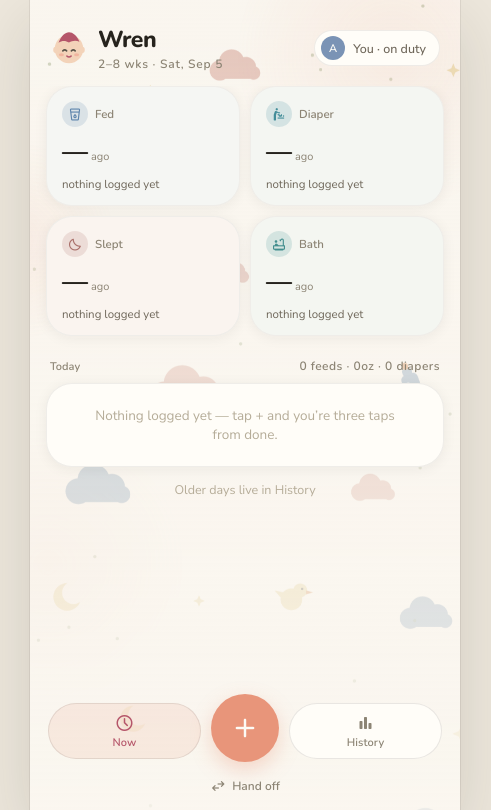
Scenario: multi-timer rows › starting from the sheet posts a client-generated id and shows the row
Click the button "add". click: (245, 728)
box: [211,694,279,762]
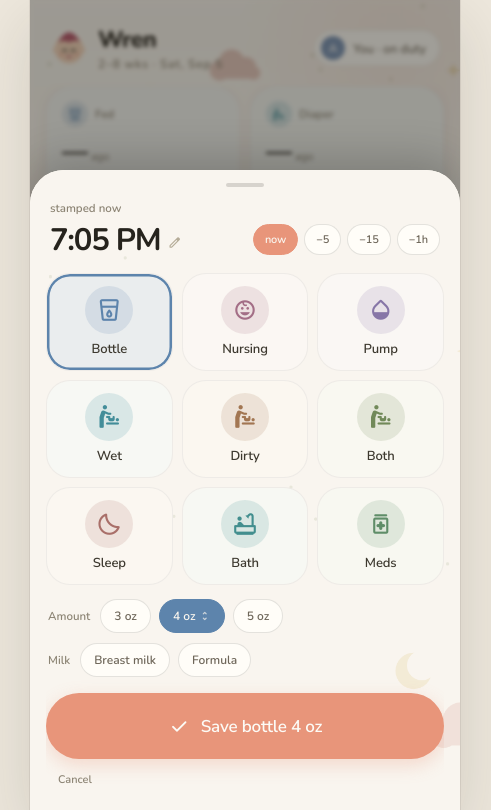
// the sheet is pointer-events:none until its enter animation lands (double rAF)
Click the text "Nursing". click: (245, 349)
box: [222,340,268,358]
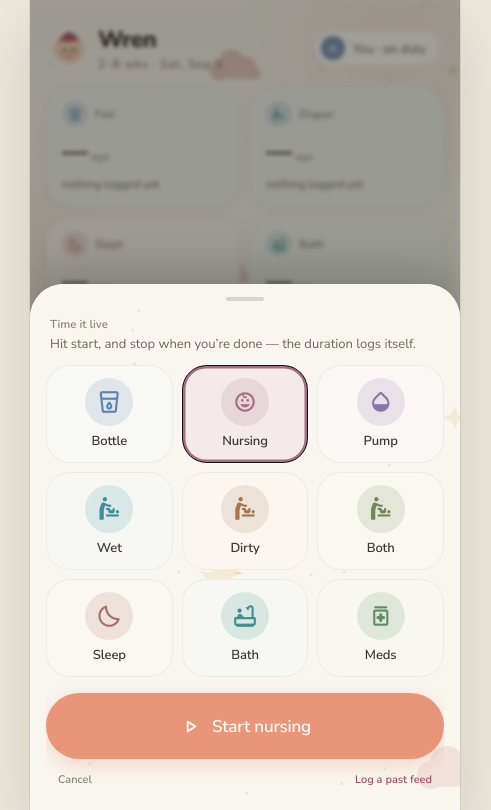
Click the text "Start nursing". click: (262, 726)
box: [212,714,311,738]
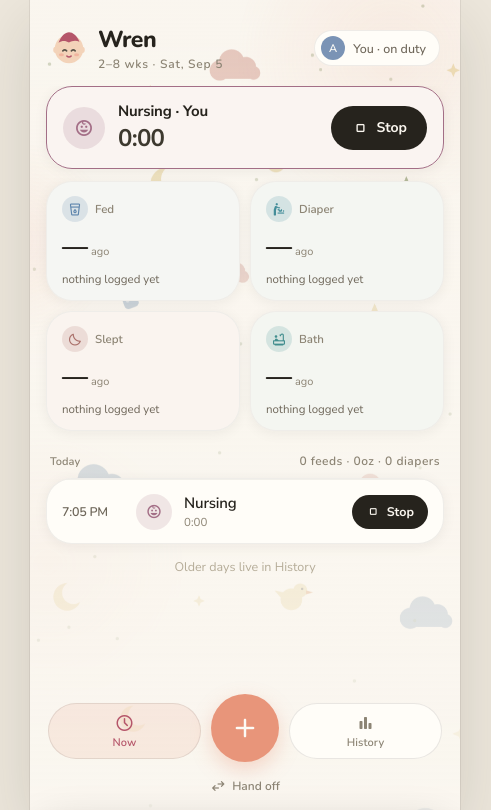
expect the text "Nursing · You" is shown: met, box [118,101,208,121]
